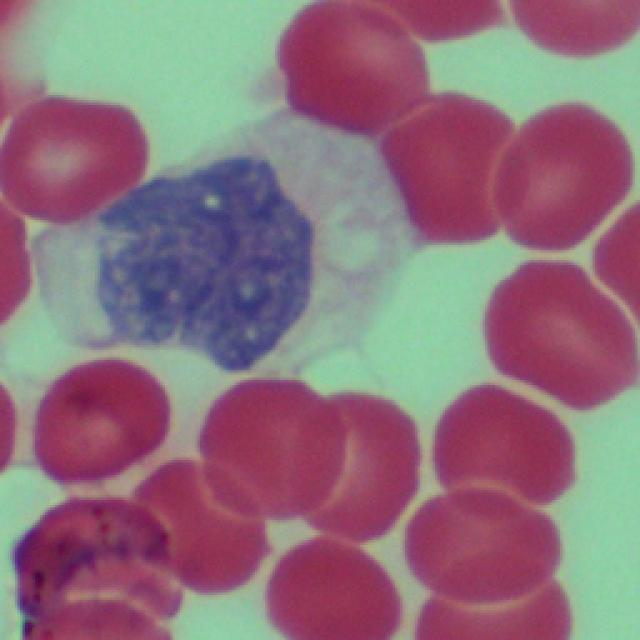RBC: (193, 368, 419, 516), (482, 69, 630, 250), (481, 256, 640, 413), (15, 491, 179, 640), (376, 73, 512, 246), (30, 341, 166, 508), (421, 374, 572, 513), (0, 75, 134, 228), (126, 457, 263, 600), (279, 0, 424, 133), (406, 492, 560, 596), (266, 530, 401, 638), (504, 0, 640, 64)
WBC: (105, 169, 312, 361)
